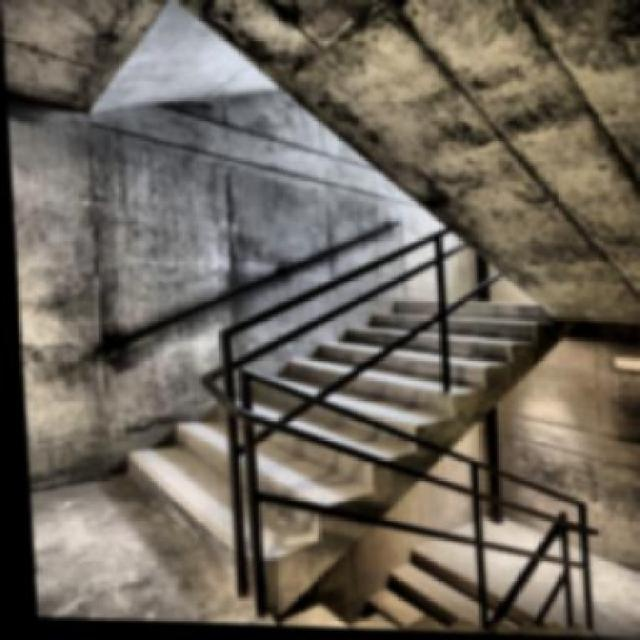stair: (88, 205, 560, 590)
